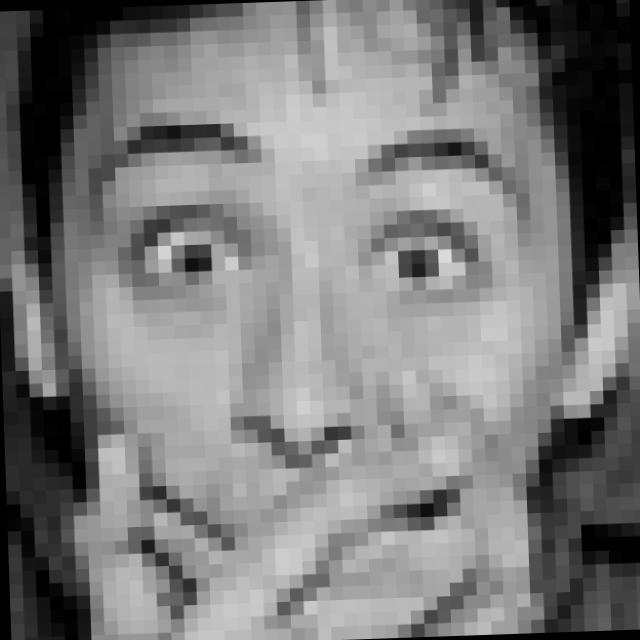fear: (71, 96, 540, 609)
